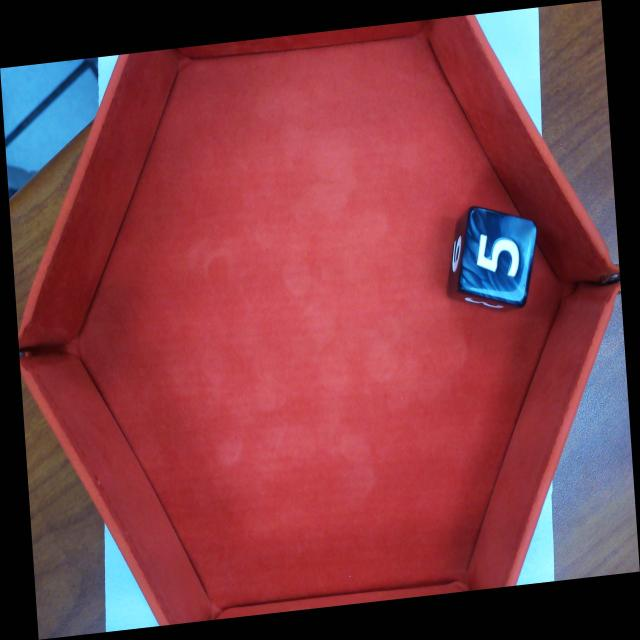dice: (455, 204, 540, 310)
